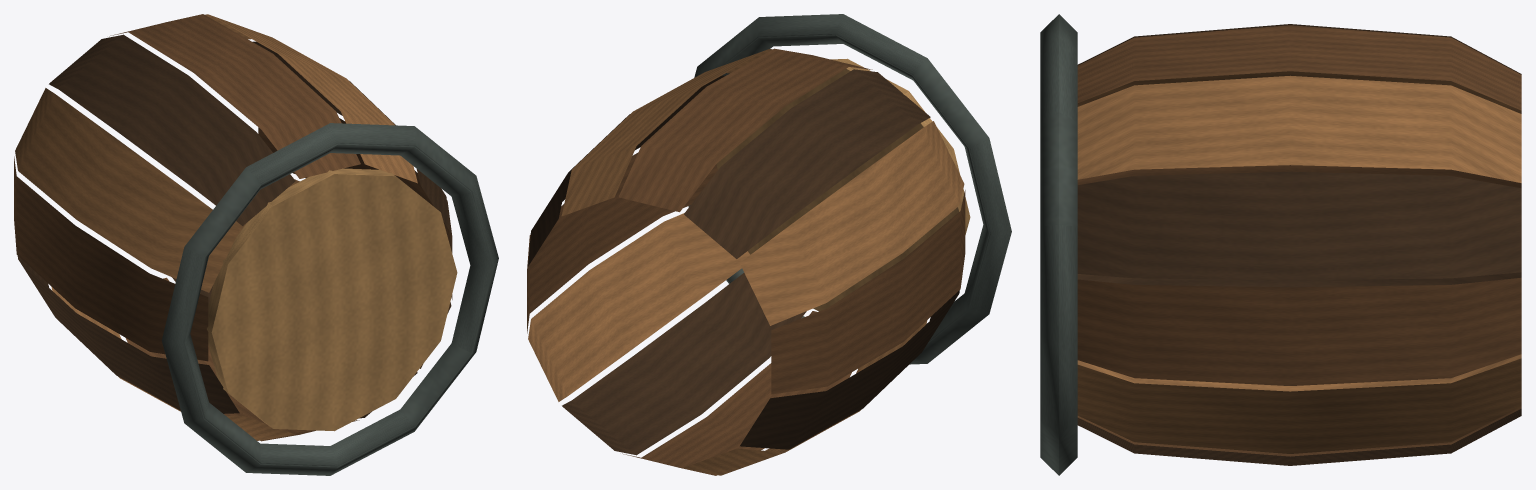
Rendered from barrel-side.fbx.
3 views of the same model, side by side, from view 1: azimuth 30°, elevation 25°; view 2: azimuth 150°, elevation 25°; view 3: azimuth 270°, elevation 25° (orthographic). The views are drawn at different scales.
Parts seen in each view (by area): view 1: barrel-side__Geometry; view 2: barrel-side__Geometry; view 3: barrel-side__Geometry.
Part boxes in pixels (box(x1,y1,x2,y2)): barrel-side__Geometry: box(14, 14, 498, 475); barrel-side__Geometry: box(527, 14, 1011, 475); barrel-side__Geometry: box(1040, 14, 1521, 475).
Size of the model in its own units: 0.9224 by 0.9224 by 0.957.
